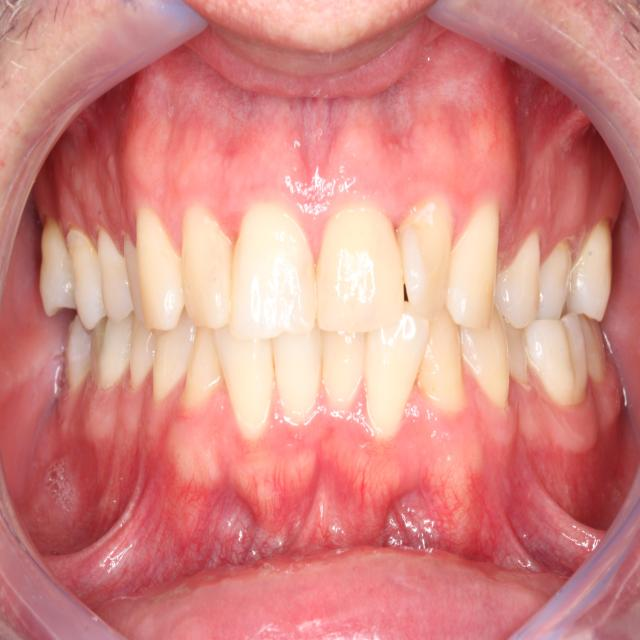tooth: (313, 206, 406, 346), (226, 208, 317, 348), (397, 185, 452, 327), (216, 328, 283, 437), (458, 184, 501, 338), (182, 201, 230, 325), (136, 208, 185, 328), (378, 331, 425, 436), (279, 335, 324, 434), (468, 316, 513, 415), (504, 228, 543, 328), (284, 342, 330, 425), (535, 329, 579, 411), (328, 327, 375, 403), (579, 214, 614, 315), (37, 218, 72, 306), (70, 230, 102, 320), (98, 233, 131, 318), (156, 332, 189, 396), (430, 336, 459, 402), (103, 318, 132, 384)
